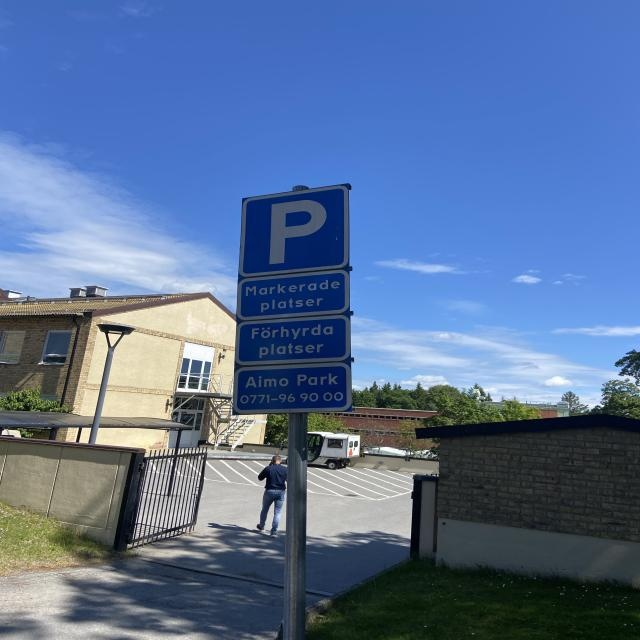P-skylt: (240, 193, 346, 270)
